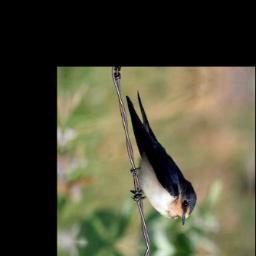Swallow: (116, 89, 203, 228)
